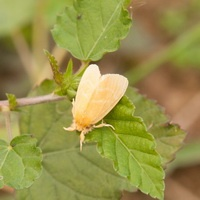insect: (64, 64, 127, 150)
